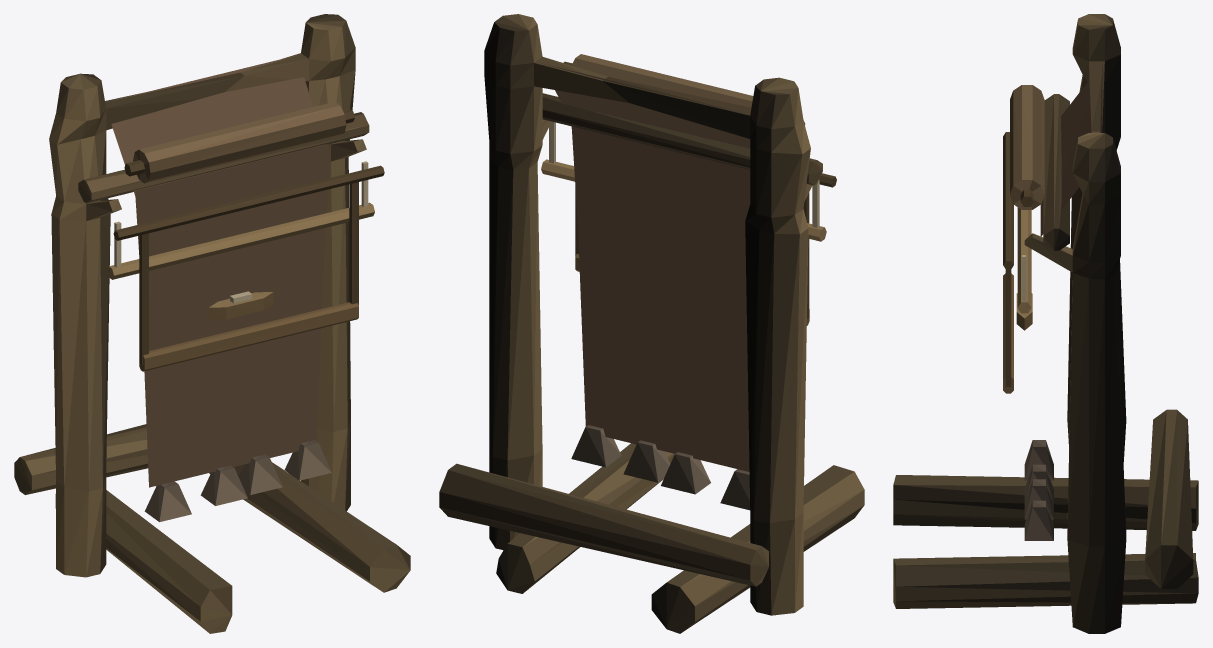
The model's file is loom.obj.
The picture shows the model from 3 angles, left to right: view 1: azimuth 30°, elevation 25°; view 2: azimuth 150°, elevation 25°; view 3: azimuth 270°, elevation 25°; orthographic projection. The views are drawn at different scales.
Visible parts, largest first — view 1: loom, loom_beater, loom_cloth_roll, loom_heddle_b, loom_heddle_a, loom_shuttle; view 2: loom, loom_heddle_a, loom_cloth_roll, loom_heddle_b, loom_beater; view 3: loom, loom_cloth_roll, loom_heddle_a, loom_beater, loom_heddle_b.
Boxes of the visible parts, box(x1,y1,x2,y2) form: loom: box(14, 14, 410, 633); loom_beater: box(113, 165, 384, 371); loom_cloth_roll: box(124, 102, 354, 183); loom_heddle_b: box(107, 161, 374, 279); loom_heddle_a: box(78, 112, 369, 203); loom_shuttle: box(208, 291, 273, 319); loom: box(439, 14, 864, 633); loom_heddle_a: box(542, 93, 822, 185); loom_cloth_roll: box(563, 54, 805, 124); loom_heddle_b: box(541, 121, 826, 241); loom_beater: box(575, 173, 836, 325); loom: box(893, 14, 1198, 633); loom_cloth_roll: box(1010, 85, 1044, 209); loom_heddle_a: box(1043, 94, 1069, 250); loom_beater: box(1003, 132, 1013, 393); loom_heddle_b: box(1017, 207, 1031, 313).
Size of the model in its own units: 128 by 199 by 114.
